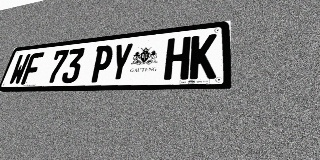3: (60, 48, 85, 83)
7: (45, 49, 70, 84)
F: (20, 52, 44, 85)
H: (163, 36, 191, 80)
K: (189, 34, 217, 79)
P: (89, 45, 115, 83)
W: (8, 54, 31, 85)
Y: (107, 42, 134, 82)
